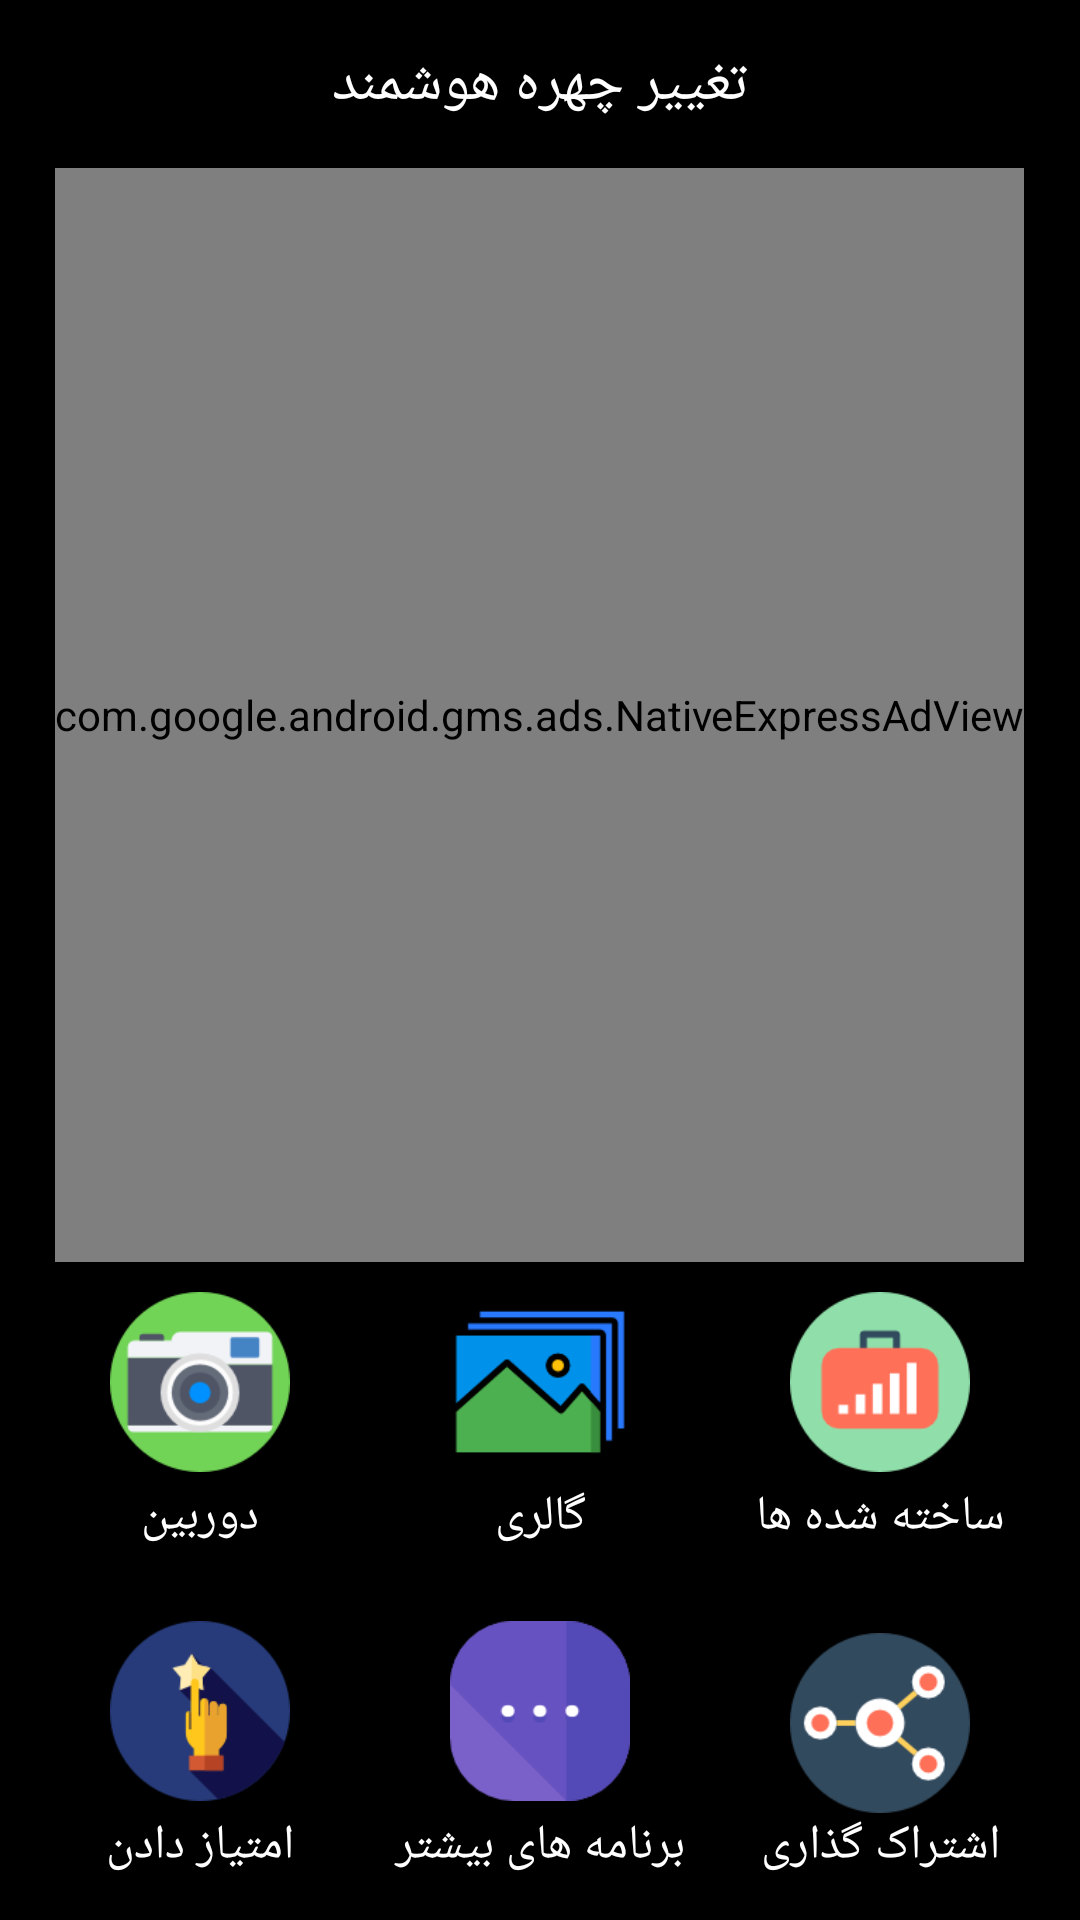

Screen size 1080x1920. Icon name, then its box in pixels as (x1, y1, x2, y2):
collection: (790, 1292, 970, 1472)
